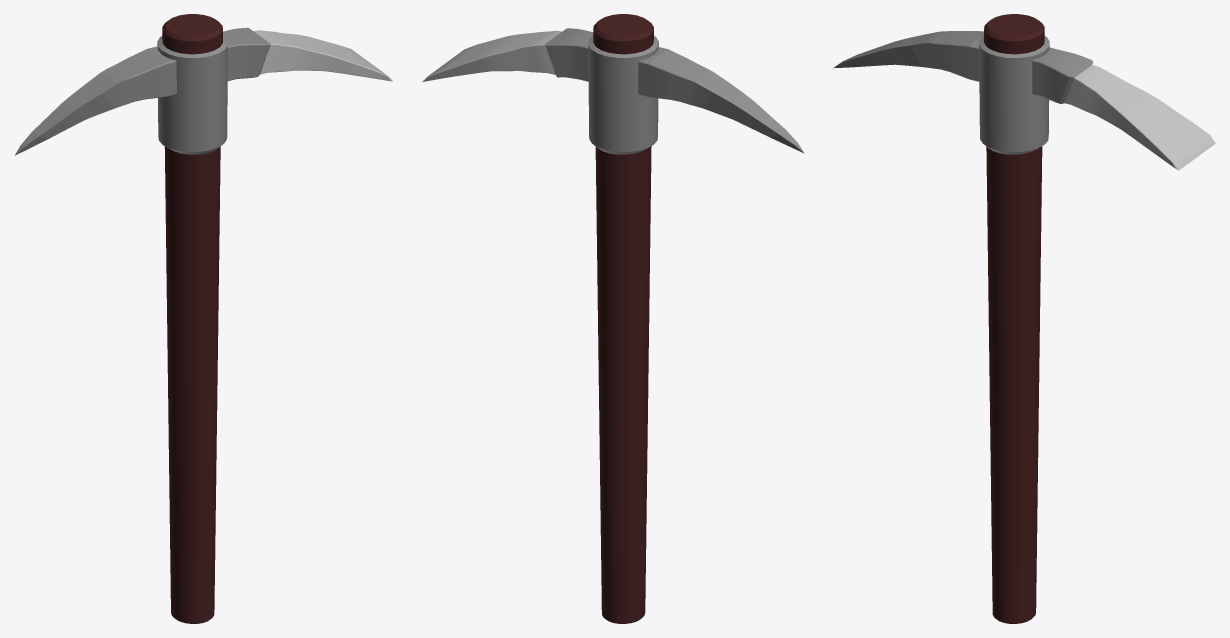
File: pioche.fbx
3 renders of one model, left to right at view 1: azimuth 30°, elevation 25°; view 2: azimuth 150°, elevation 25°; view 3: azimuth 330°, elevation 25°, orthographic.
Visible parts, largest first — view 1: pCylinder1, pasted__pCube1; view 2: pCylinder1, pasted__pCube1; view 3: pCylinder1, pasted__pCube1.
Boxes of the visible parts, <box> form: pCylinder1: <box>157,14,227,623</box>; pasted__pCube1: <box>14,27,392,155</box>; pCylinder1: <box>588,14,658,623</box>; pasted__pCube1: <box>422,28,804,153</box>; pCylinder1: <box>979,14,1049,623</box>; pasted__pCube1: <box>833,31,1215,170</box>.
Size of the model in its own units: 2.27 by 3.53 by 0.4095.
